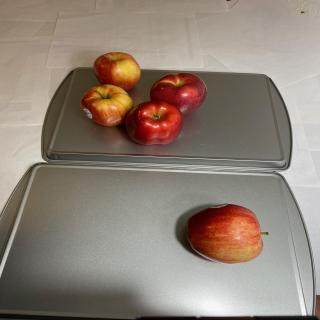Apple: (187, 203, 268, 264), (125, 100, 184, 146), (149, 72, 207, 115), (80, 84, 134, 127), (93, 52, 141, 91)
